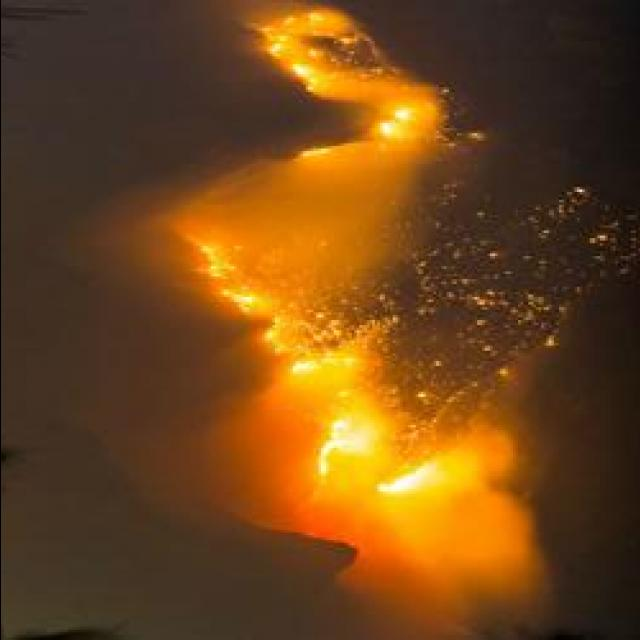fire: (314, 422, 364, 472), (370, 460, 430, 496), (378, 108, 412, 144)
smoke: (368, 499, 542, 640), (237, 154, 413, 268), (456, 432, 522, 492), (322, 72, 414, 102)
